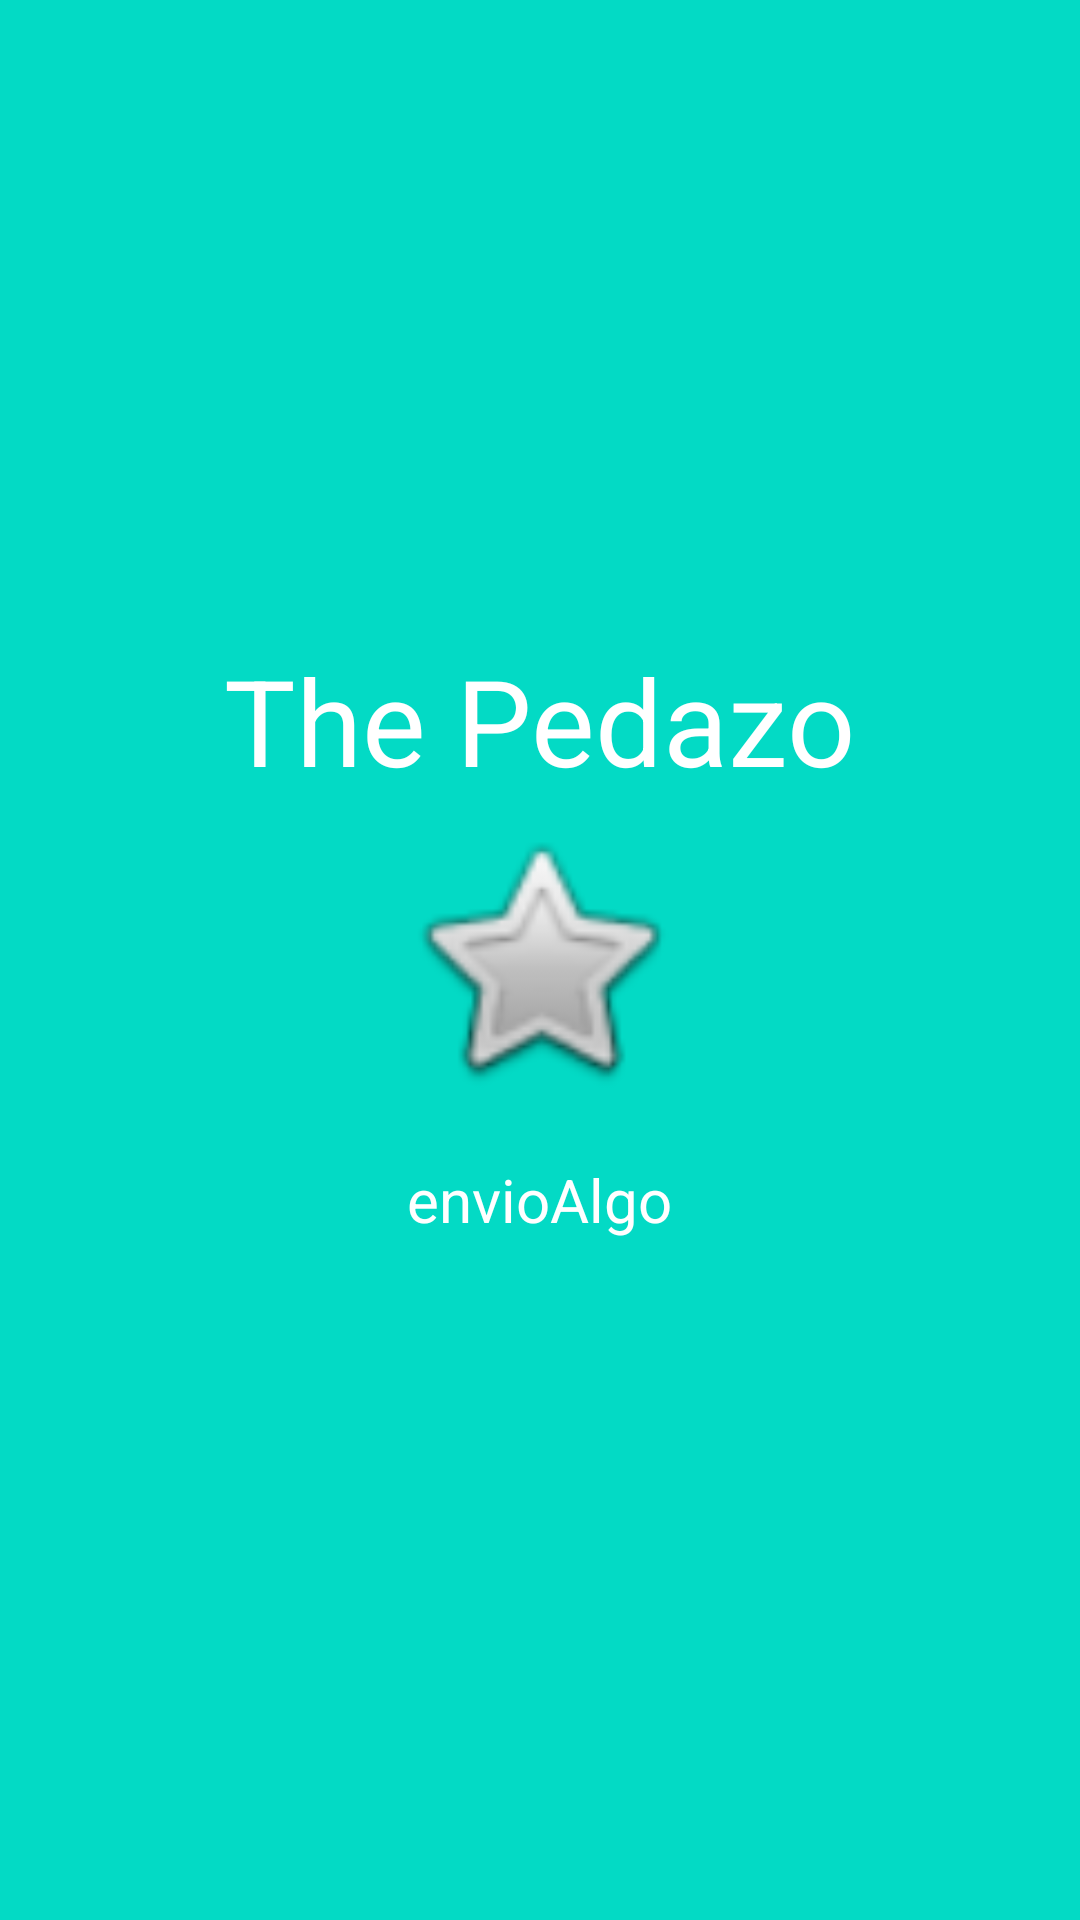

Where to tap for icons on this 1080x1920 app screen, as (x,y):
star off: (542,961)
